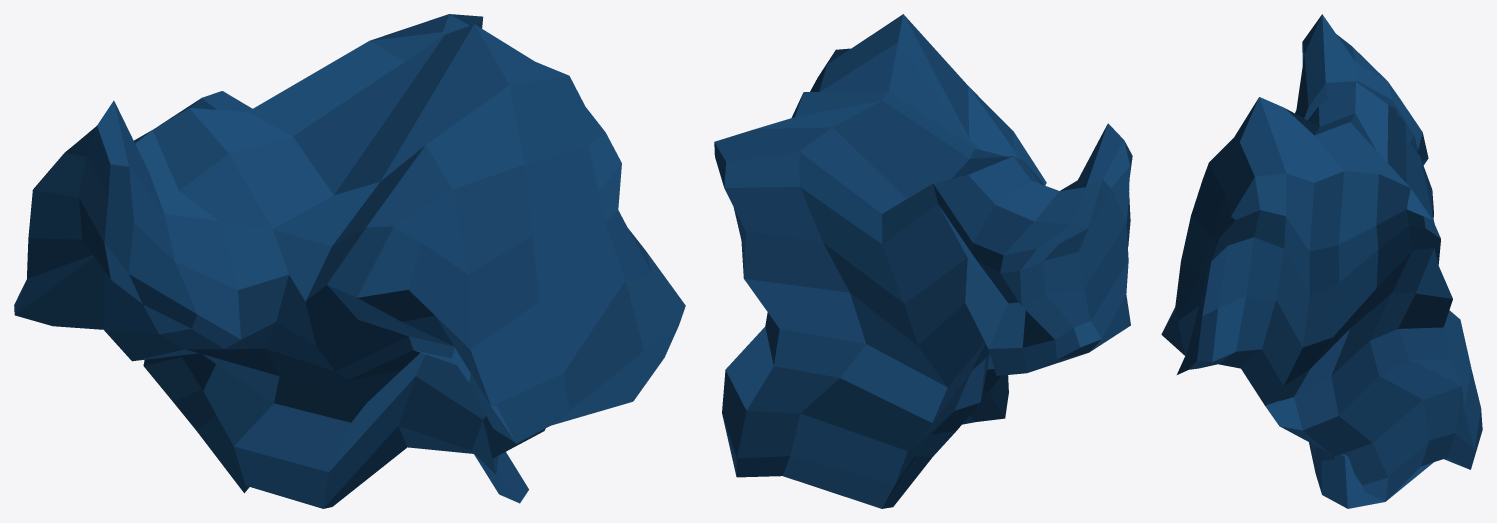
File: rock010.FBX
The picture shows the model from 3 angles, left to right: view 1: azimuth 30°, elevation 25°; view 2: azimuth 150°, elevation 25°; view 3: azimuth 270°, elevation 25°; orthographic projection. The views are drawn at different scales.
Parts seen in each view (by area): view 1: rock_010; view 2: rock_010; view 3: rock_010.
Part boxes in pixels (x1,y1,x2,y2): rock_010: (14, 14, 685, 508); rock_010: (714, 14, 1132, 508); rock_010: (1161, 14, 1482, 508).
Size of the model in its own units: 13.41 by 12.47 by 9.76.
